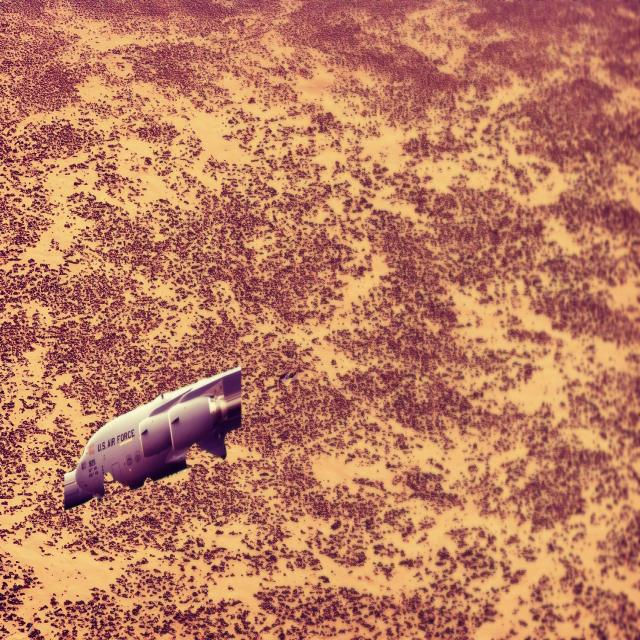airplane: (63, 365, 242, 510)
